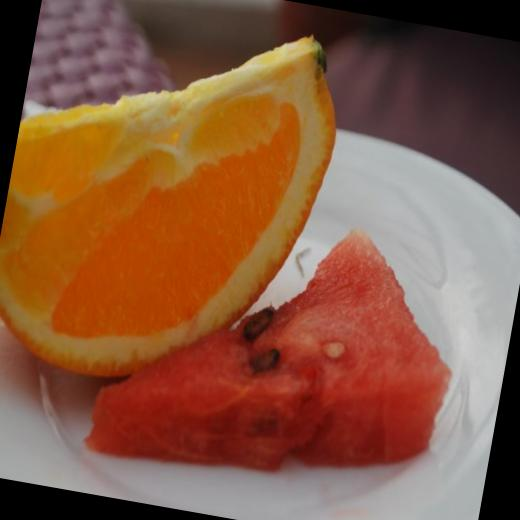Grape: (0, 0, 355, 427)
